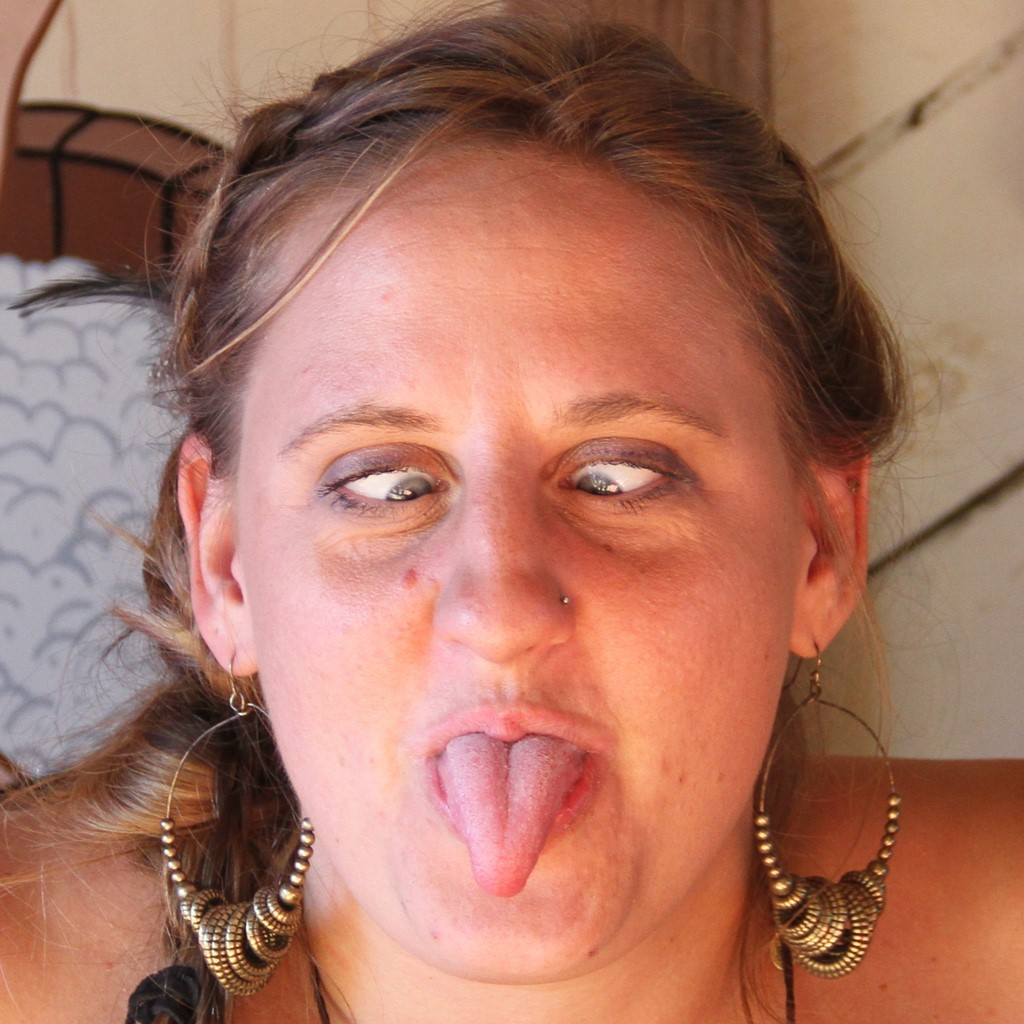sin_mascara: (211, 131, 848, 993)
